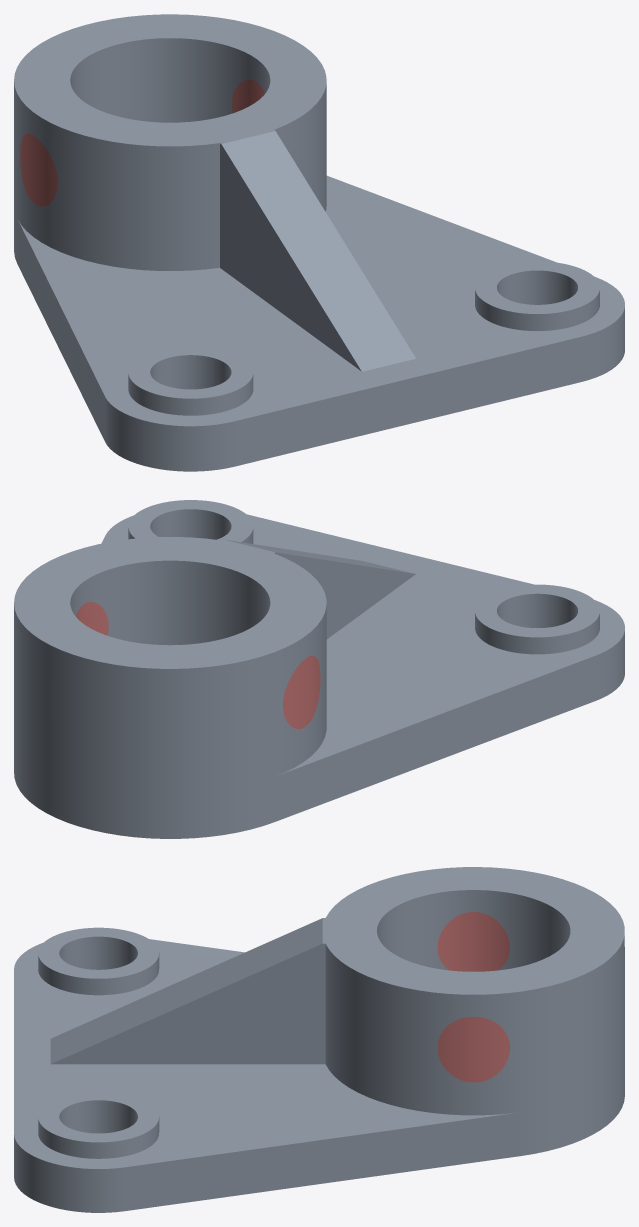
The model's file is step_08.glb.
The picture shows the model from 3 angles, top to bottom: view 1: azimuth 30°, elevation 25°; view 2: azimuth 150°, elevation 25°; view 3: azimuth 270°, elevation 25°; orthographic projection. The views are drawn at different scales.
Parts seen in each view (by area): view 1: part__boss bracket, removed__boss bracket; view 2: part__boss bracket, removed__boss bracket; view 3: part__boss bracket, removed__boss bracket.
Part boxes in pixels (bbox=[...]): part__boss bracket: bbox=[14, 14, 624, 471]; removed__boss bracket: bbox=[20, 79, 264, 206]; part__boss bracket: bbox=[14, 500, 624, 838]; removed__boss bracket: bbox=[76, 602, 320, 728]; part__boss bracket: bbox=[14, 867, 624, 1212]; removed__boss bracket: bbox=[437, 912, 509, 1082].
Size of the model in its own units: 91.99 by 30 by 101.
